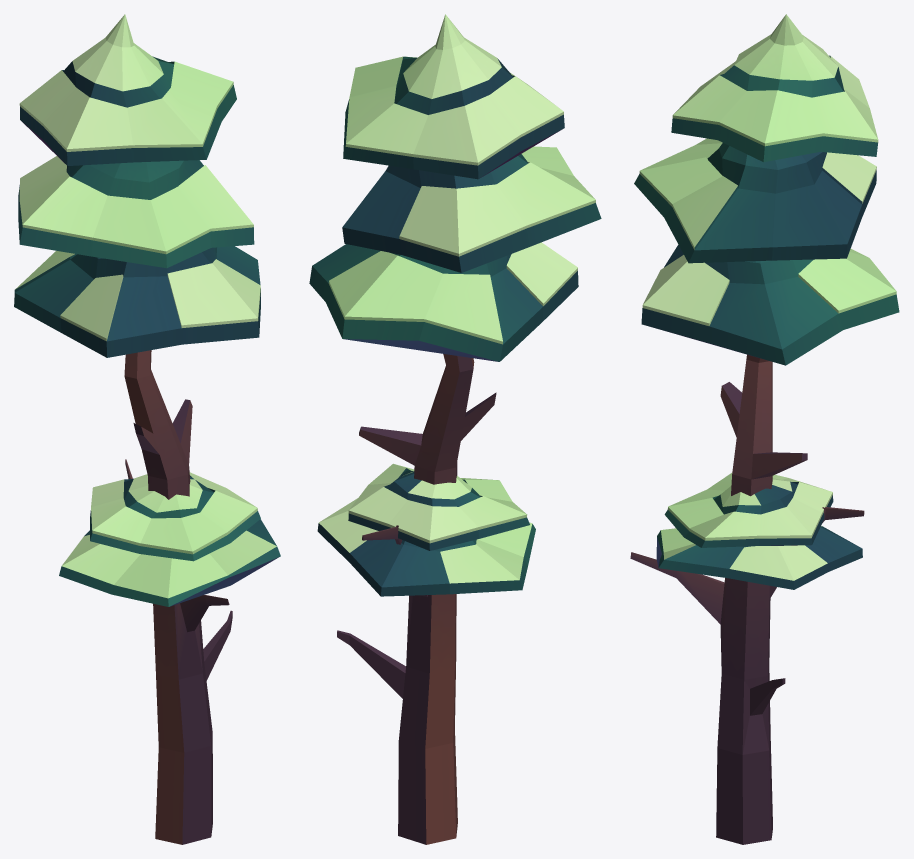
Rendered from Tree_Snow03.fbx.
3 renders of one model, left to right at view 1: azimuth 30°, elevation 25°; view 2: azimuth 150°, elevation 25°; view 3: azimuth 270°, elevation 25°, orthographic. The views are drawn at different scales.
Visible parts, largest first — view 1: TolSnowTree3; view 2: TolSnowTree3; view 3: TolSnowTree3.
Boxes of the visible parts, x1,y1,x2,y2 form: TolSnowTree3: (14,14,280,844); TolSnowTree3: (309,14,601,844); TolSnowTree3: (630,14,899,844).
Bounding box in the file's own units: 185 × 553 × 168.
